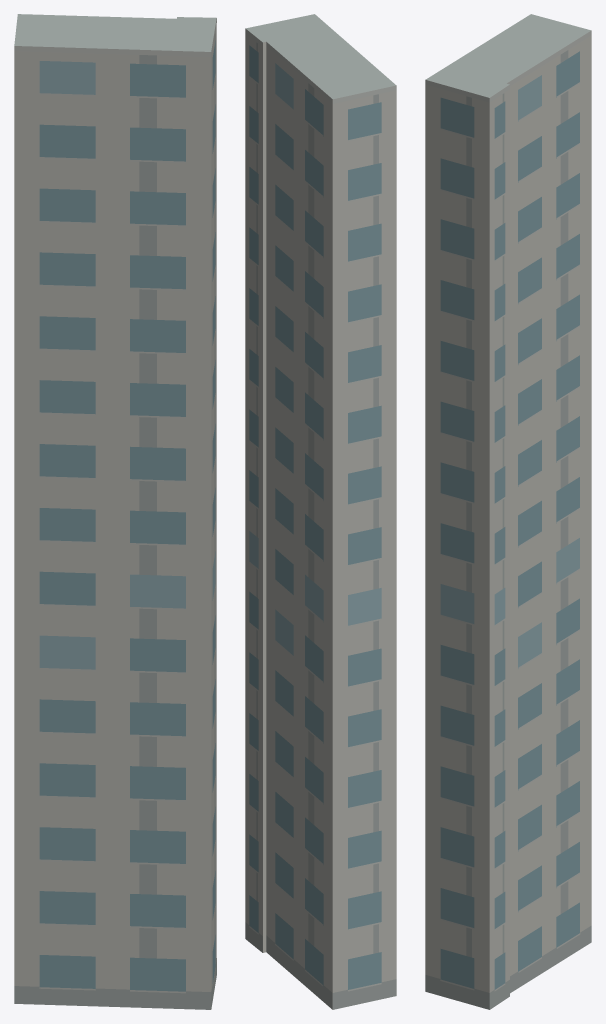
The model's file is survey-upis-32746635.glb.
3 views of the same model, side by side, from view 1: azimuth 30°, elevation 25°; view 2: azimuth 150°, elevation 25°; view 3: azimuth 270°, elevation 25° (orthographic). The views are drawn at different scales.
Visible parts, largest first — view 1: survey-upis-32746635.tmp; view 2: survey-upis-32746635.tmp; view 3: survey-upis-32746635.tmp.
Boxes of the visible parts, <box> form: survey-upis-32746635.tmp: <box>14,14,216,1009</box>; survey-upis-32746635.tmp: <box>245,14,396,1009</box>; survey-upis-32746635.tmp: <box>425,14,591,1009</box>.
Bounding box in the file's own units: 9.04 × 45.75 × 7.56.
